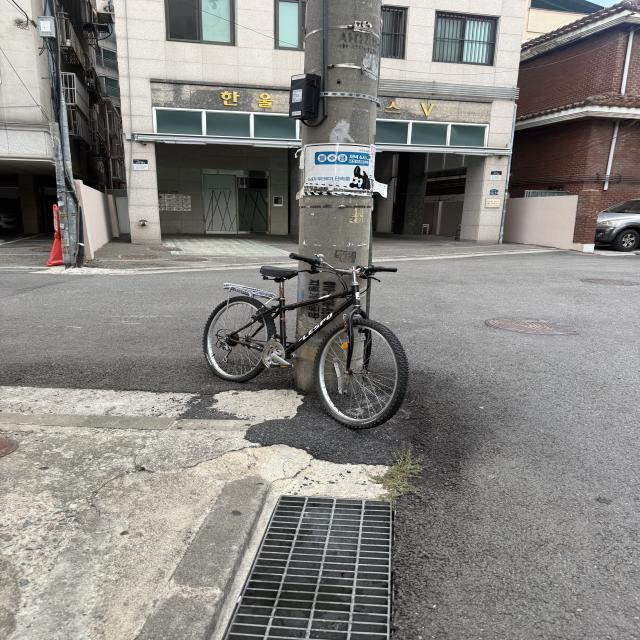bicycle: (169, 237, 439, 456)
